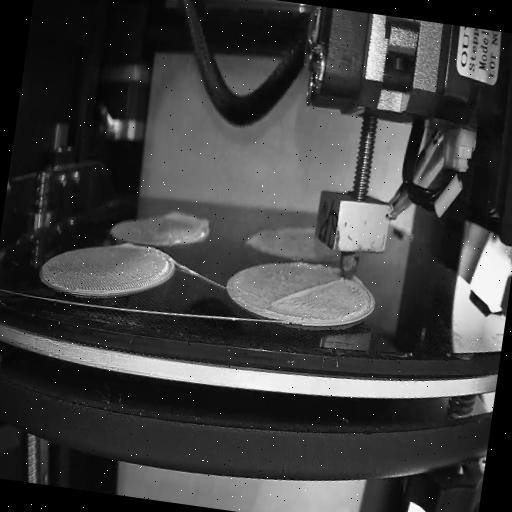over_extrusion: (270, 268, 344, 316), (162, 208, 212, 240), (119, 237, 138, 250)
